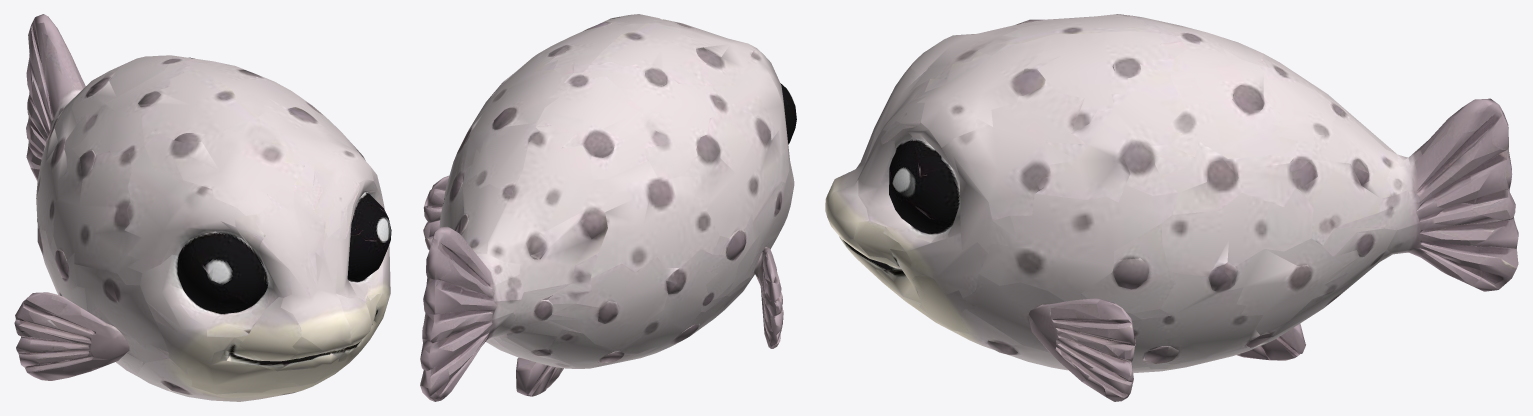
Rendered from puff.glb.
The picture shows the model from 3 angles, left to right: view 1: azimuth 30°, elevation 25°; view 2: azimuth 150°, elevation 25°; view 3: azimuth 270°, elevation 25°; orthographic projection. The views are drawn at different scales.
Bounding box in the file's own units: 1.34 × 1.04 × 2.
Materials: 1 (1 with a texture image).
